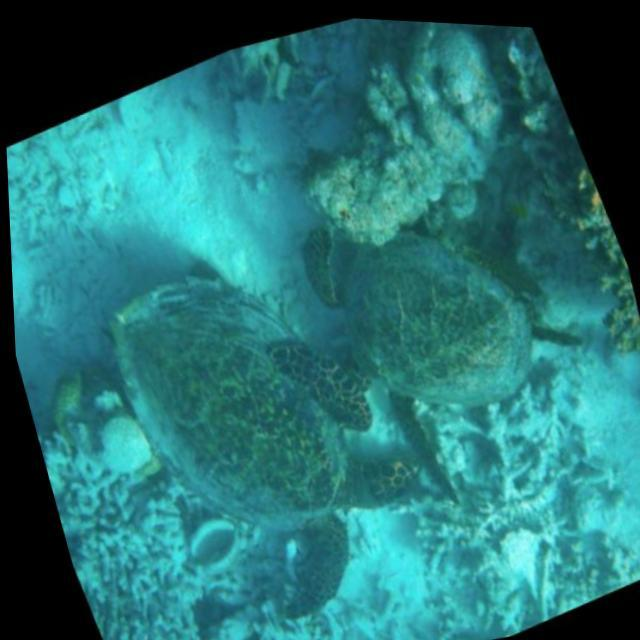Dead Coral: (69, 369, 640, 640), (226, 10, 562, 276)
